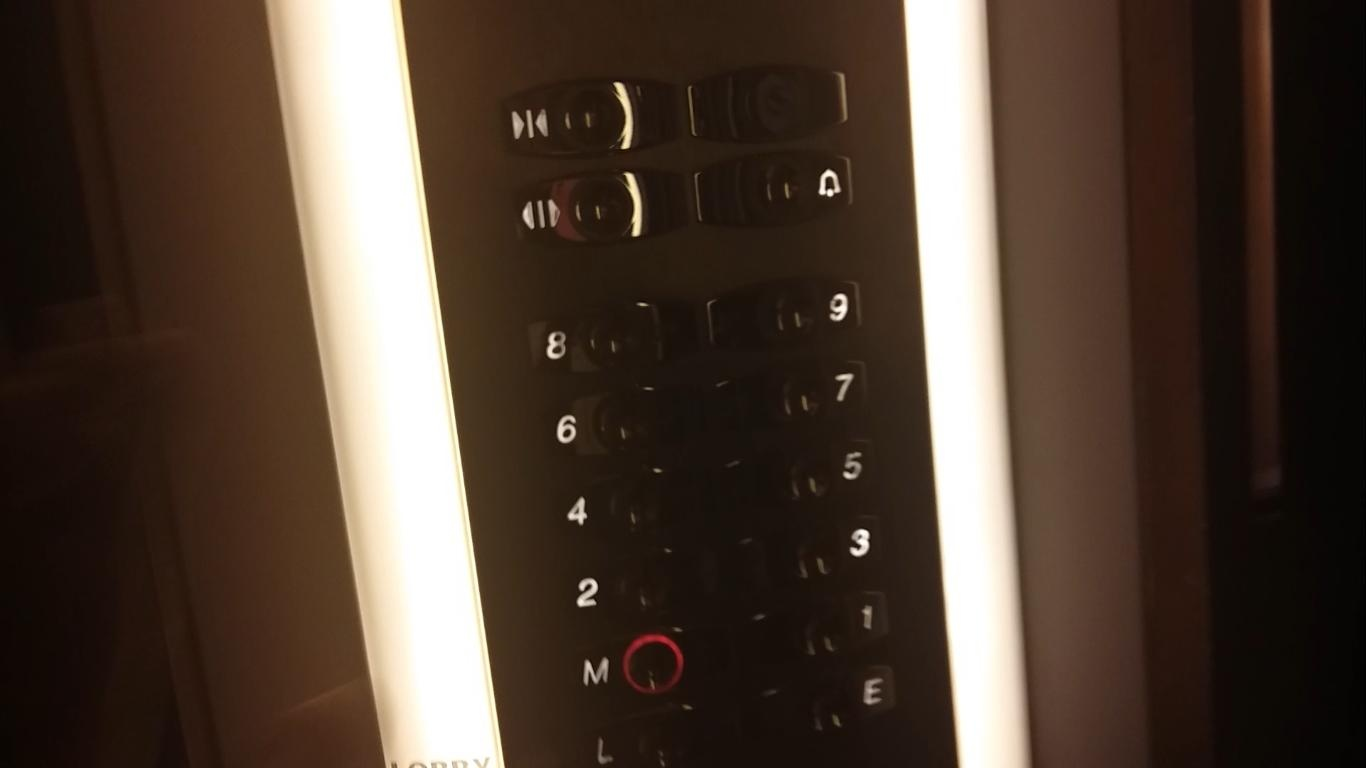1: (729, 592, 891, 665)
2: (549, 543, 712, 619)
3: (719, 521, 880, 593)
4: (539, 462, 707, 535)
5: (712, 442, 876, 513)
6: (528, 378, 706, 456)
7: (704, 352, 874, 431)
8: (522, 296, 702, 377)
9: (704, 272, 866, 349)
E: (734, 666, 897, 739)
L: (559, 698, 725, 768)
M: (553, 622, 718, 700)
alarm: (687, 150, 859, 226)
blur: (680, 59, 855, 140)
close: (494, 71, 676, 157)
open: (494, 163, 689, 249)
